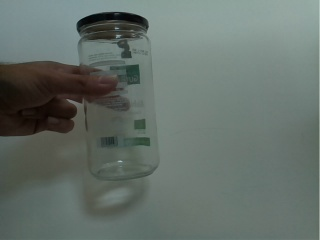pote cristal: (74, 10, 164, 183)
